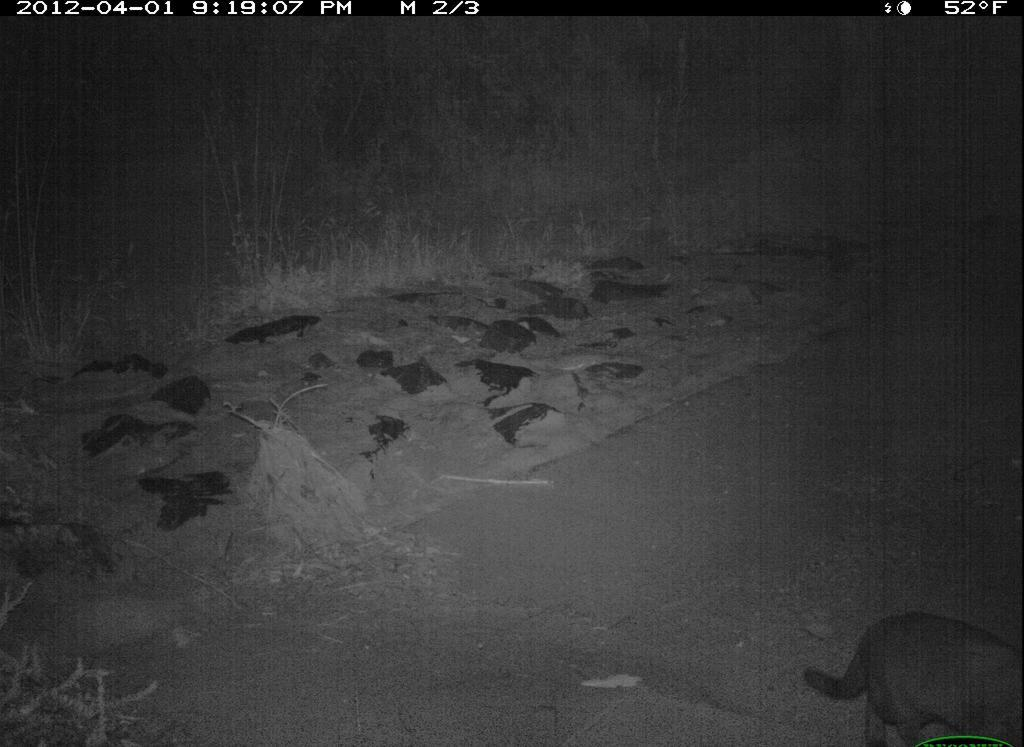cat: (795, 596, 1024, 745)
